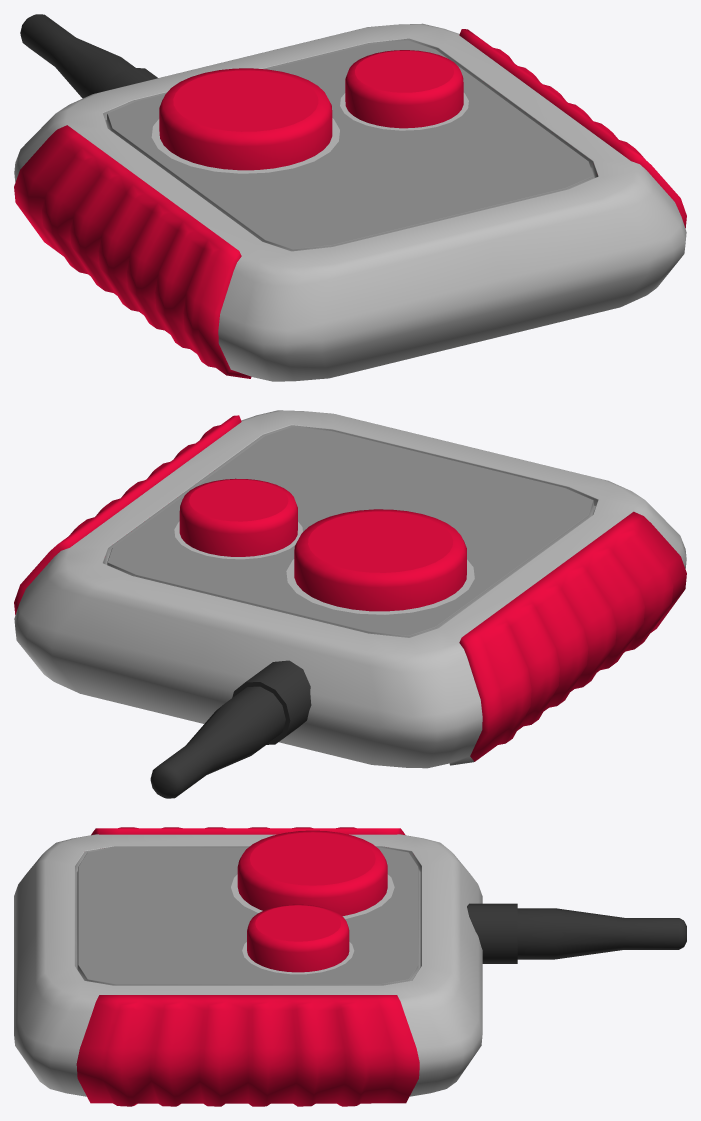
Rendered from ControllerAll.glb.
The picture shows the model from 3 angles, top to bottom: view 1: azimuth 30°, elevation 25°; view 2: azimuth 150°, elevation 25°; view 3: azimuth 270°, elevation 25°; orthographic projection. The views are drawn at different scales.
Visible parts, largest first — view 1: ControllerBody, ButtonBig, ButtonSmall, Object005Antena; view 2: ControllerBody, ButtonBig, Object005Antena, ButtonSmall; view 3: ControllerBody, ButtonBig, Object005Antena, ButtonSmall.
Part boxes in pixels (x1,y1,x2,y2): ControllerBody: (14,23,686,381); ButtonBig: (159,68,332,170); ButtonSmall: (345,50,463,128); Object005Antena: (20,14,157,98); ControllerBody: (14,410,686,768); ButtonBig: (294,509,466,611); Object005Antena: (150,660,311,798); ButtonSmall: (179,478,297,556); ControllerBody: (14,827,482,1106); ButtonBig: (237,830,387,916); Object005Antena: (467,903,686,963); ButtonSmall: (247,904,349,972).
Size of the model in its own units: 1.11 by 0.3499 by 1.56.
